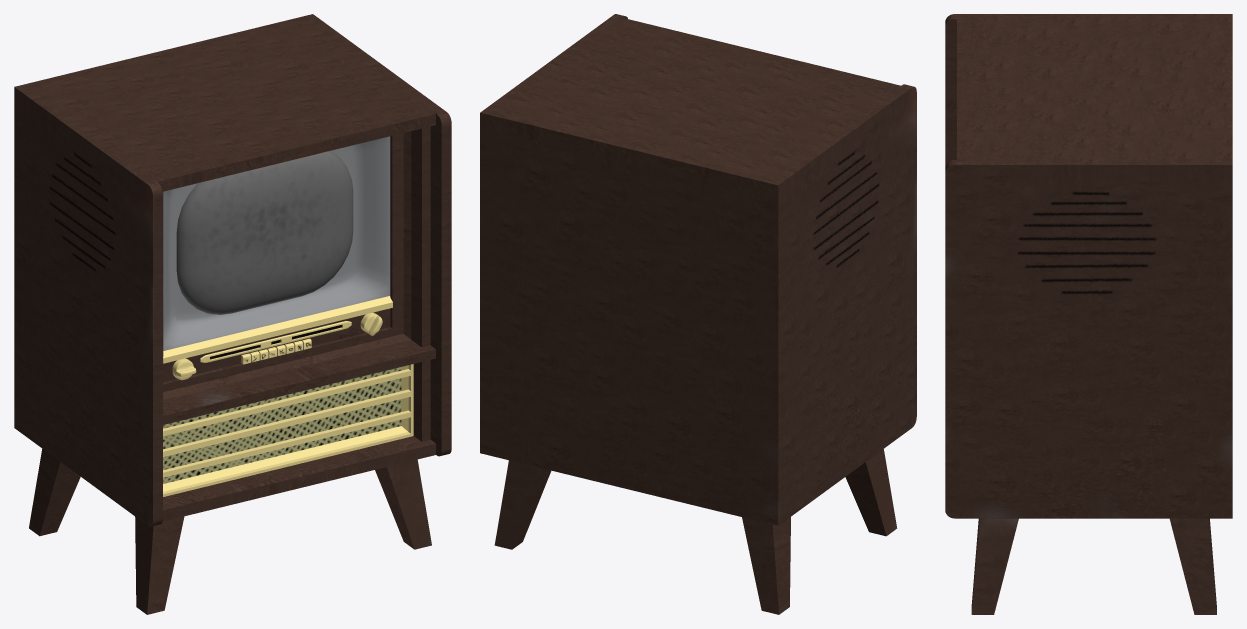
File: TVComplete.fbx
3 renders of one model, left to right at view 1: azimuth 30°, elevation 25°; view 2: azimuth 150°, elevation 25°; view 3: azimuth 270°, elevation 25°, orthographic. The views are drawn at different scales.
Parts seen in each view (by area): view 1: TVBase, TVScreen, Brass fittings, ScreenFrame; view 2: TVBase; view 3: TVBase.
Part boxes in pixels (left/top/right/bottom): TVBase: left=14, top=14, right=451, bottom=614; TVScreen: left=176, top=151, right=353, bottom=314; Brass fittings: left=163, top=296, right=413, bottom=496; ScreenFrame: left=163, top=136, right=390, bottom=350; TVBase: left=480, top=14, right=916, bottom=614; TVBase: left=945, top=14, right=1232, bottom=614.
Bounding box in the file's own units: 81.77 × 114 × 65.82.
4 materials, 4 textured.
